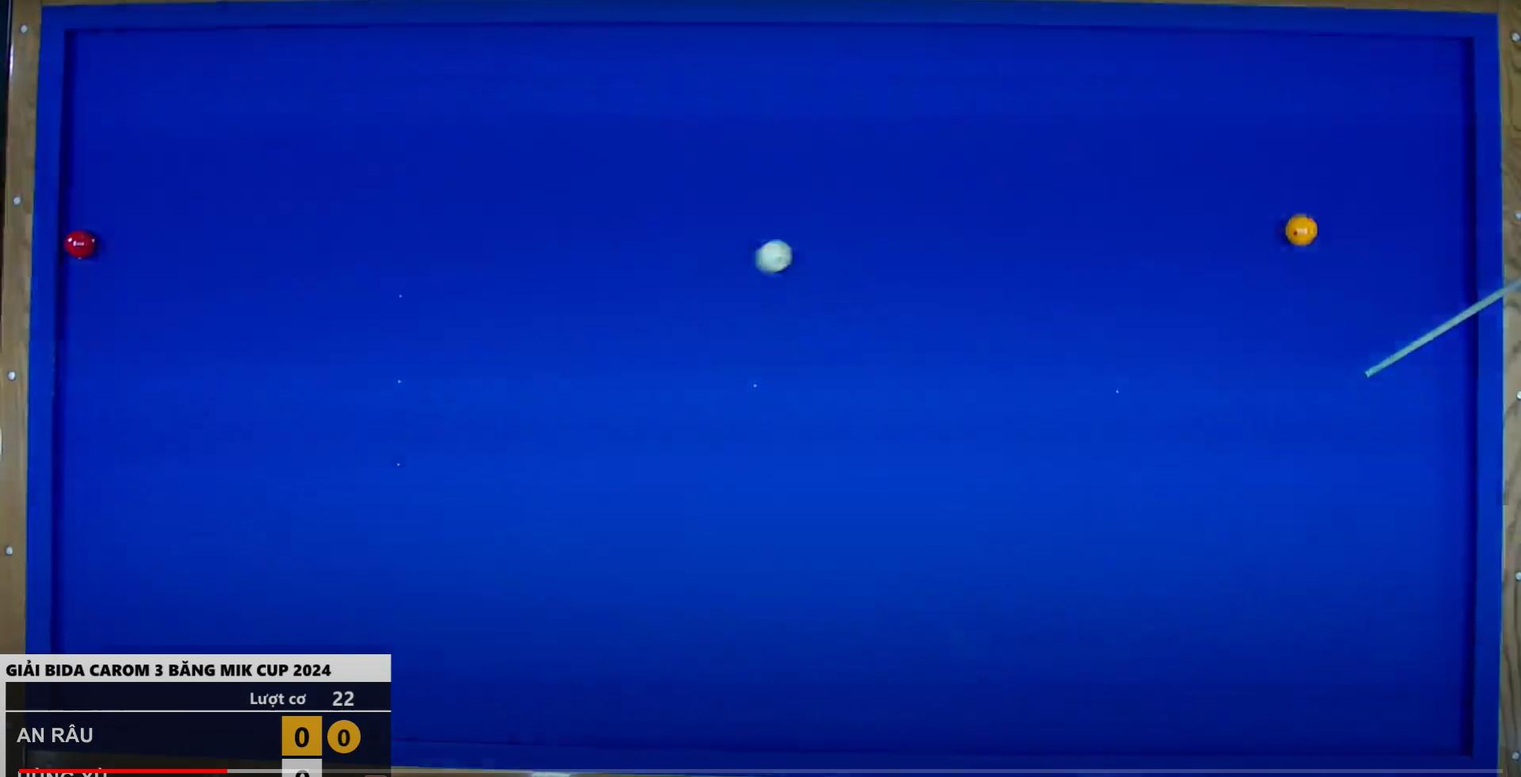orange ball: (744, 236, 800, 286)
red ball: (53, 219, 109, 269)
yellow ball: (1281, 209, 1322, 250)
